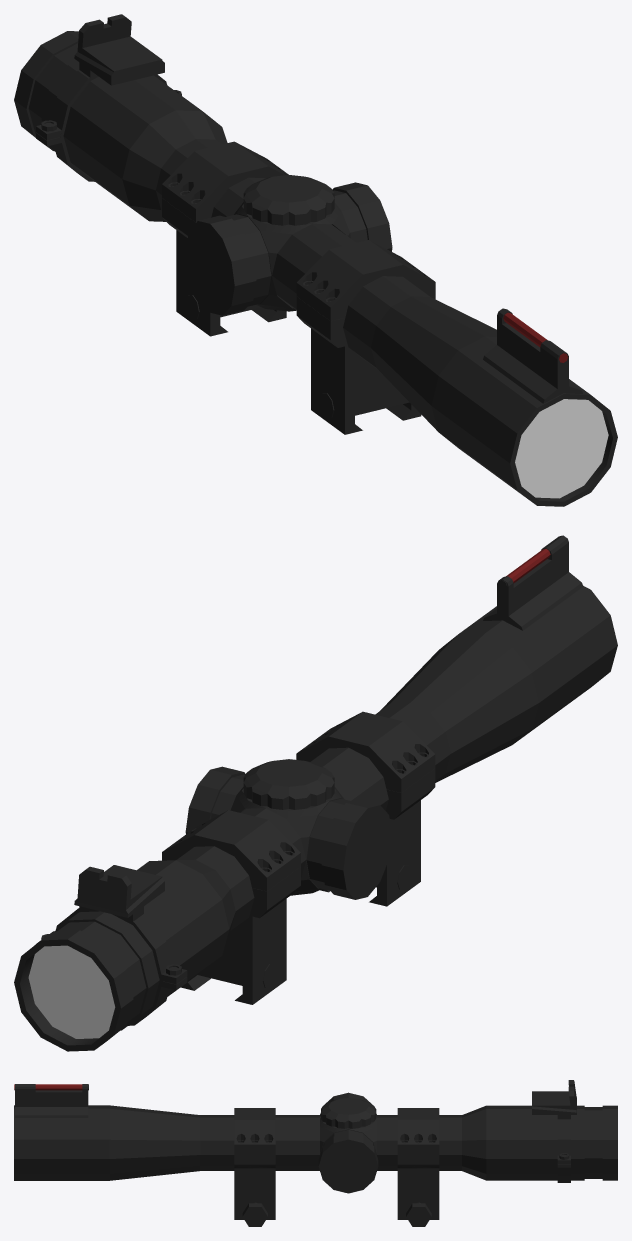
The model's file is scope.fbx.
3 renders of one model, top to bottom at view 1: azimuth 30°, elevation 25°; view 2: azimuth 150°, elevation 25°; view 3: azimuth 270°, elevation 25°, orthographic. The views are drawn at different scales.
Parts seen in each view (by area): view 1: Scope; view 2: Scope; view 3: Scope.
Part boxes in pixels (bbox=[...]): Scope: bbox=[14, 14, 617, 506]; Scope: bbox=[14, 535, 617, 1051]; Scope: bbox=[14, 1080, 617, 1226].
Bounding box in the file's own units: 134 × 166 × 728.
